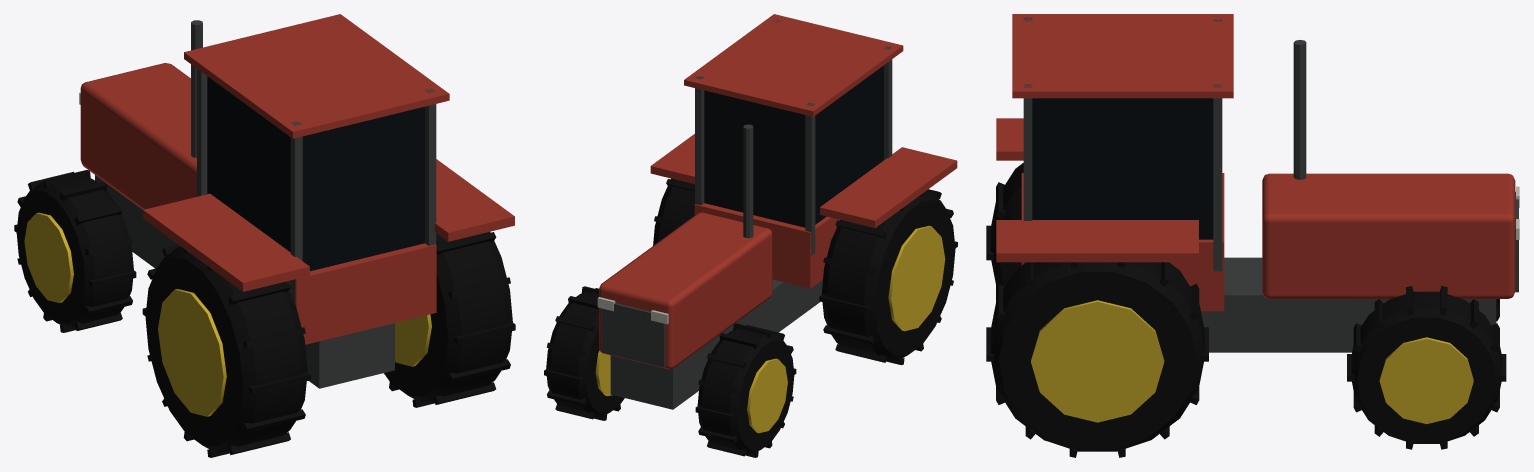
The model's file is vehicle.farm.tractor_red.glb.
3 views of the same model, side by side, from view 1: azimuth 30°, elevation 25°; view 2: azimuth 150°, elevation 25°; view 3: azimuth 270°, elevation 25° (orthographic). The views are drawn at different scales.
Parts seen in each view (by area): view 1: main__enamel_932, main__rubber, main__glass_dark, main__paint_ca2, main__paint_333, main__steel_333; view 2: main__enamel_932, main__rubber, main__glass_dark, main__paint_333, main__paint_ca2, main__steel_333; view 3: main__enamel_932, main__rubber, main__glass_dark, main__paint_ca2, main__paint_333, main__steel_333.
Boxes of the visible parts, x1,y1,x2,y2 form: main__enamel_932: (80,14,514,344); main__rubber: (14,170,515,457); main__glass_dark: (207,76,424,271); main__paint_ca2: (24,212,431,416); main__paint_333: (95,20,436,388); main__steel_333: (191,20,202,157); main__enamel_932: (599,14,957,369); main__rubber: (544,178,957,457); main__glass_dark: (704,65,883,227); main__paint_333: (601,19,892,409); main__paint_ca2: (595,225,945,433); main__steel_333: (743,124,753,238); main__enamel_932: (996,14,1515,311); main__rubber: (986,163,1506,457); main__glass_dark: (1032,98,1213,239); main__paint_ca2: (1031,300,1473,424); main__paint_333: (1023,17,1518,352); main__steel_333: (1293,40,1306,179).
Bounding box in the file's own units: 2.56 × 2.97 × 4.22.
